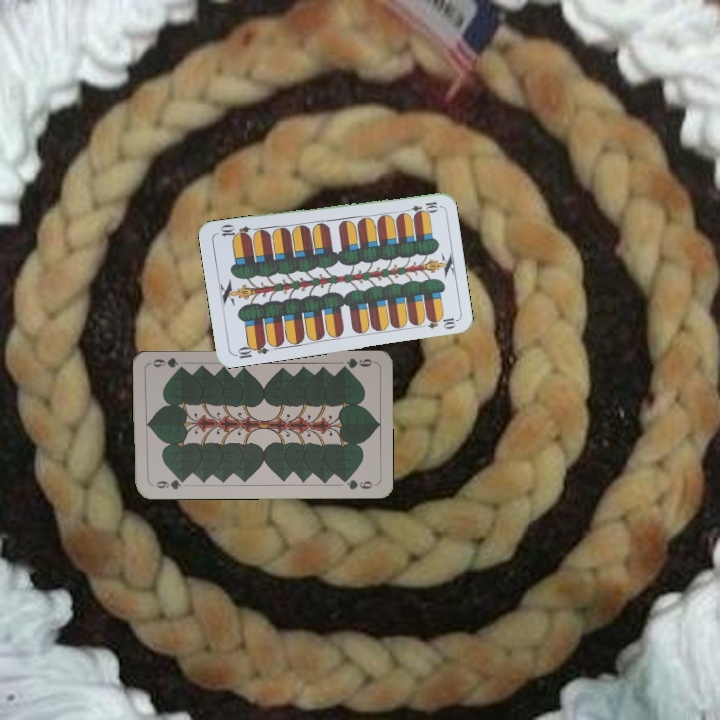E10: (230, 338, 271, 361), (400, 197, 441, 216)
G9: (336, 354, 376, 373), (148, 475, 188, 492)
